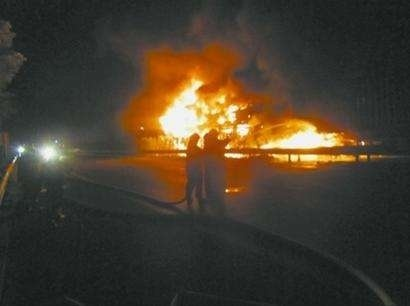fire: (147, 77, 356, 161)
